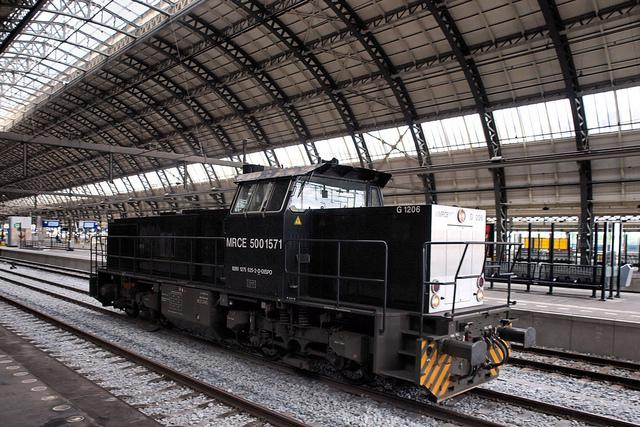Train: (87, 163, 537, 401)
